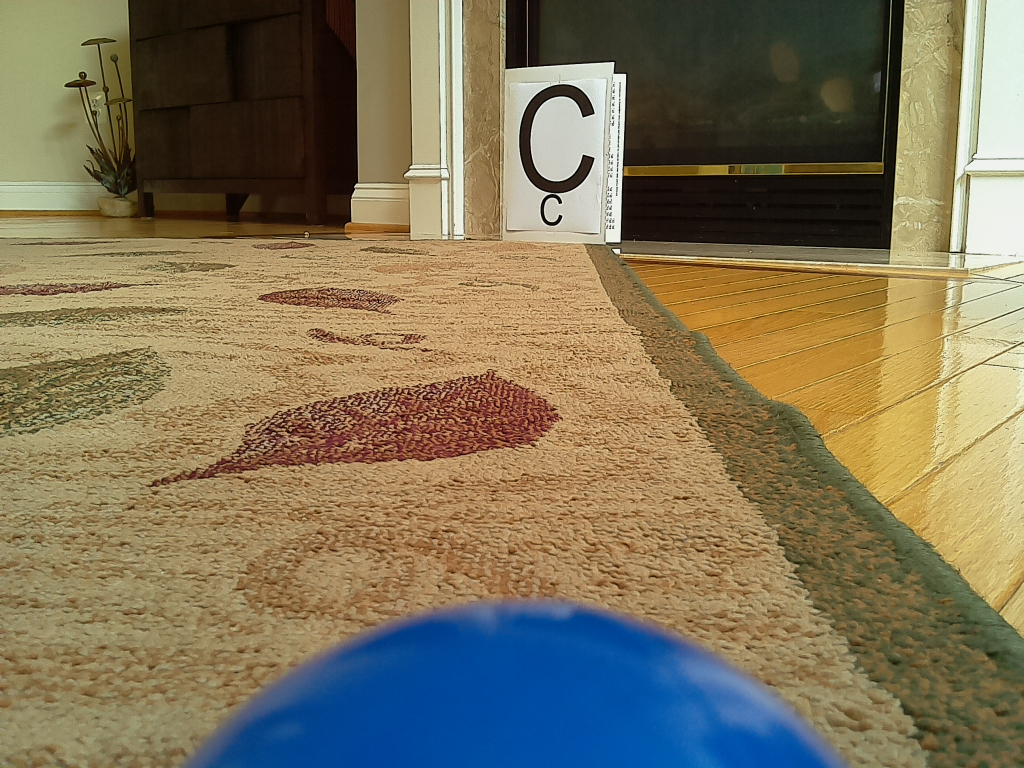letter: (520, 83, 594, 194)
